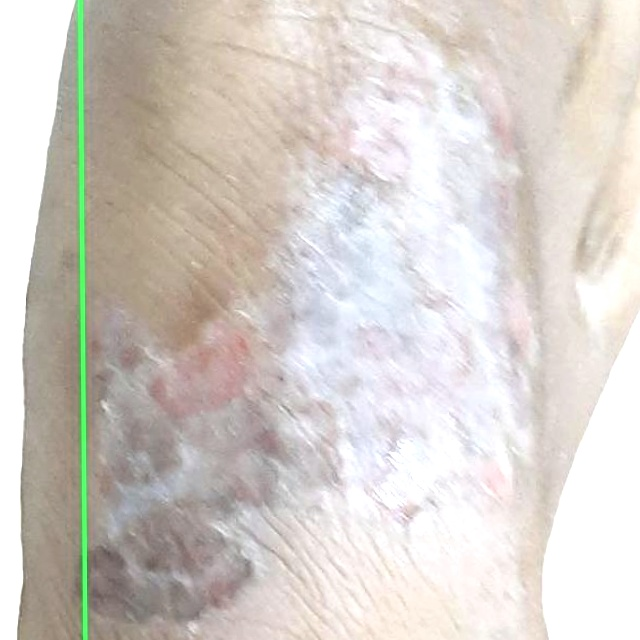Contact Dermatitis: (0, 0, 85, 639)
